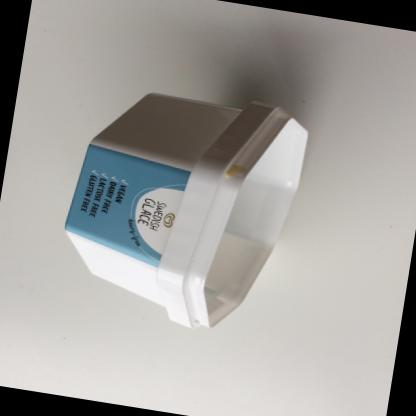Plastic: (64, 91, 306, 327)
